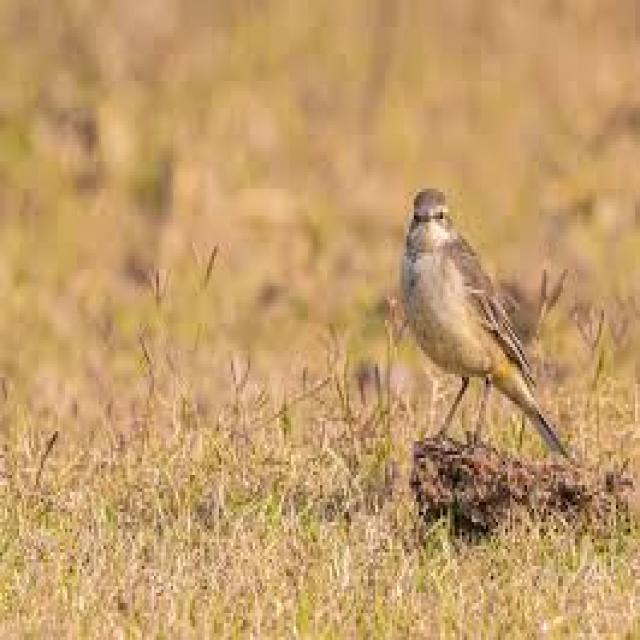bird: (401, 183, 591, 460)
